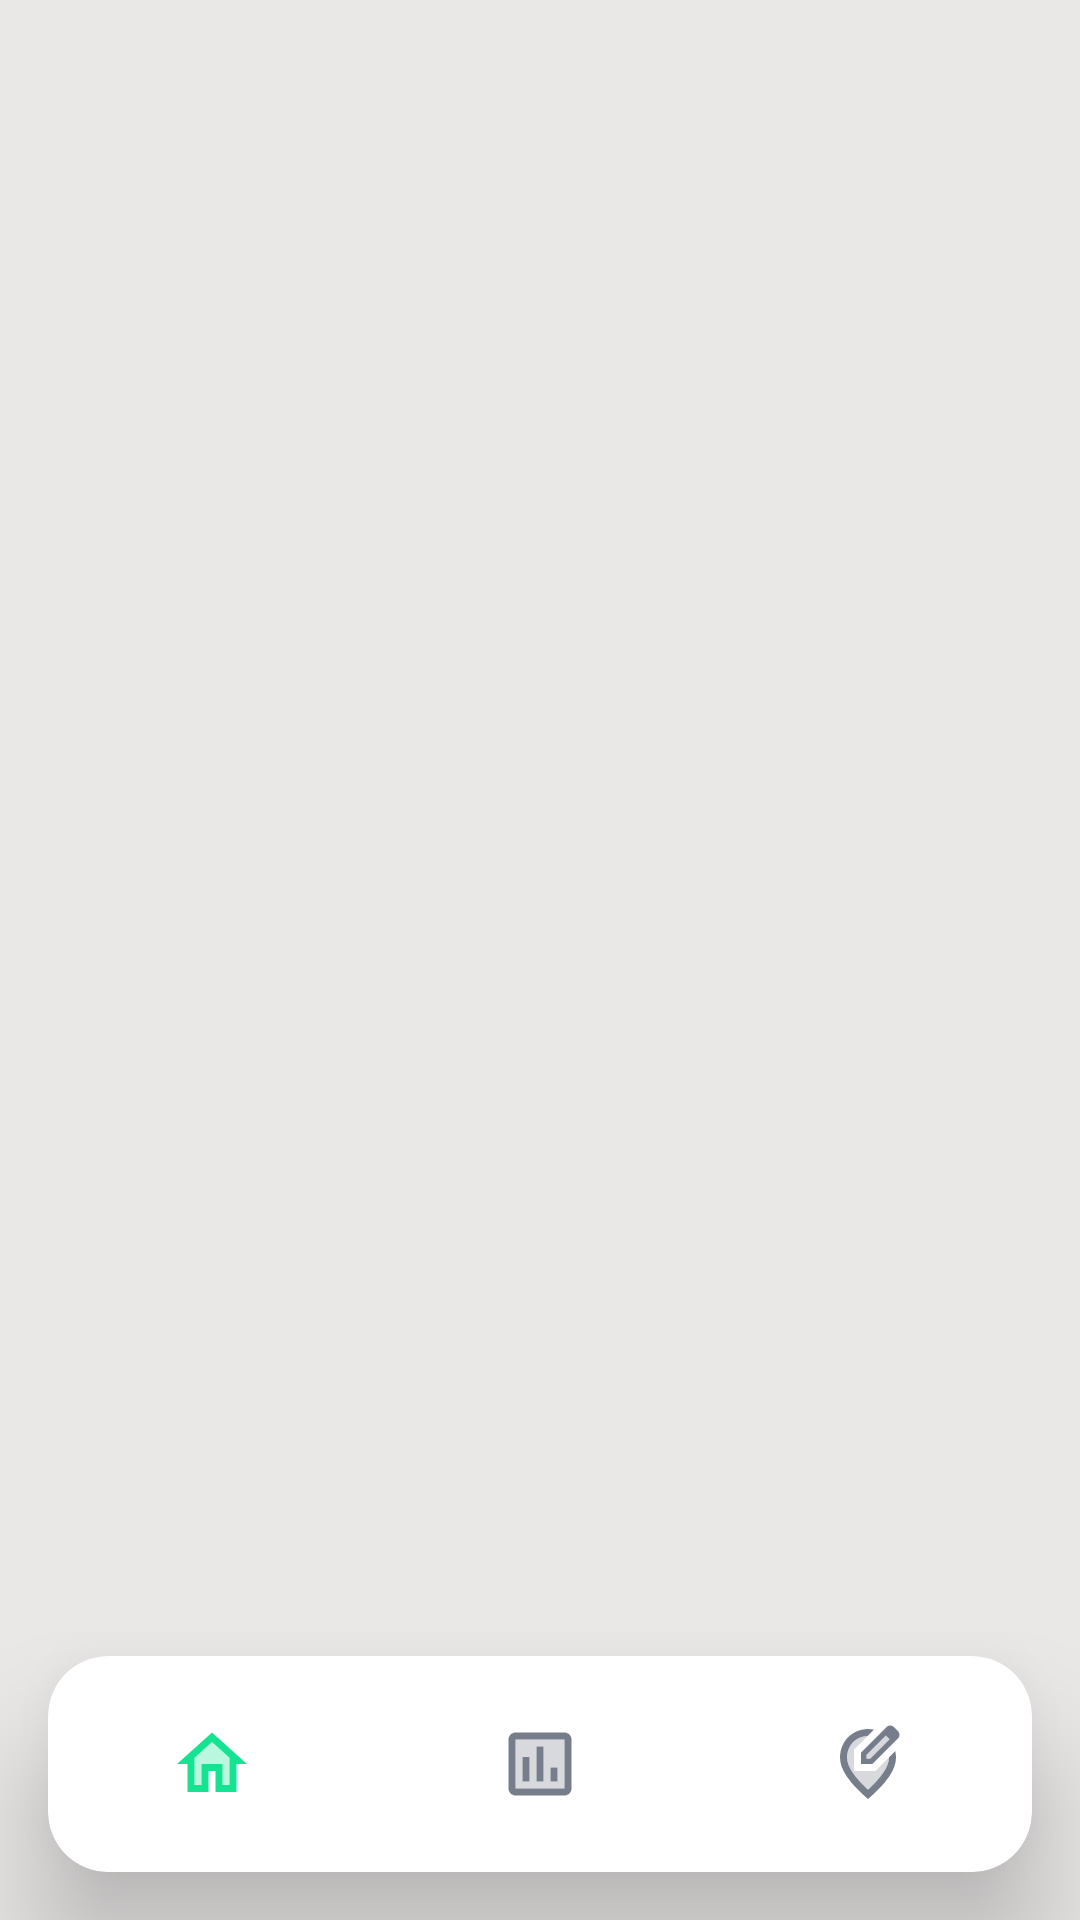

Icons on this 1080x1920 Android screen, each with its box as bbox=(x1, y1, x2, y2):
edit: bbox=(840, 1725, 900, 1799)
home: bbox=(177, 1732, 247, 1792)
stats: bbox=(508, 1732, 572, 1796)
